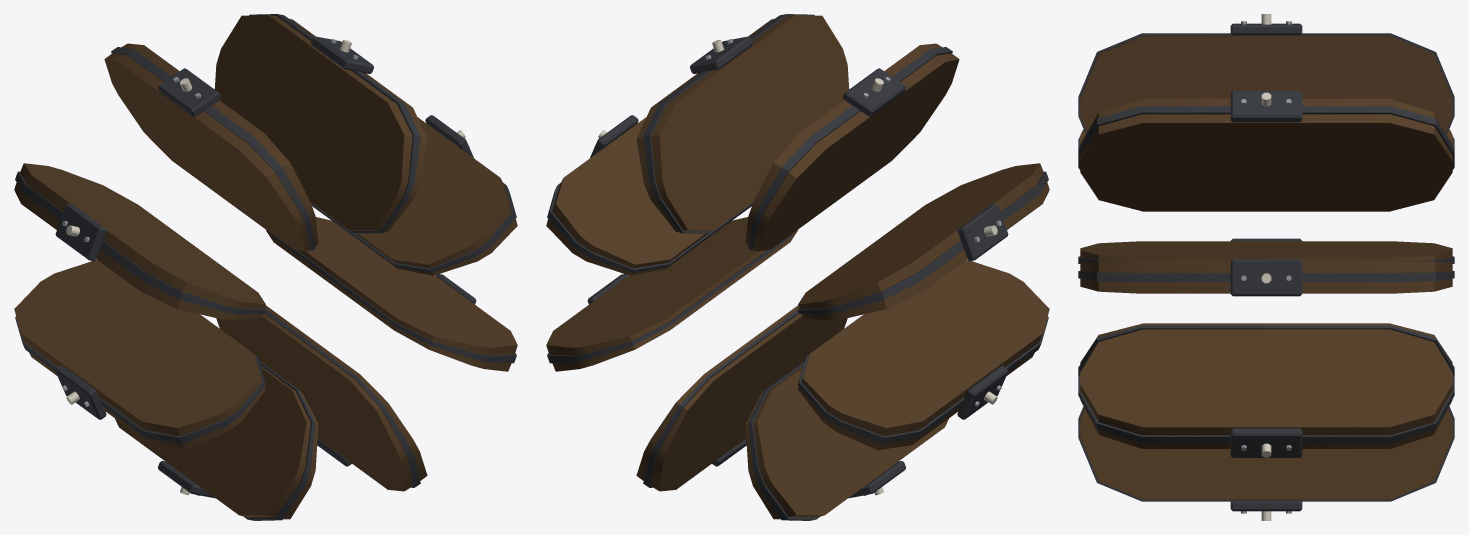
Rendered from er1_confinement.obj.
3 renders of one model, left to right at view 1: azimuth 30°, elevation 25°; view 2: azimuth 150°, elevation 25°; view 3: azimuth 270°, elevation 25°, orthographic. The views are drawn at different scales.
Parts seen in each view (by area): view 1: er1_confinement; view 2: er1_confinement; view 3: er1_confinement.
Part boxes in pixels (<box>): er1_confinement: <box>14,14,517,520</box>; er1_confinement: <box>546,14,1049,520</box>; er1_confinement: <box>1078,14,1454,520</box>.
Bounding box in the file's own units: 2.16 × 2.16 × 1.72.
